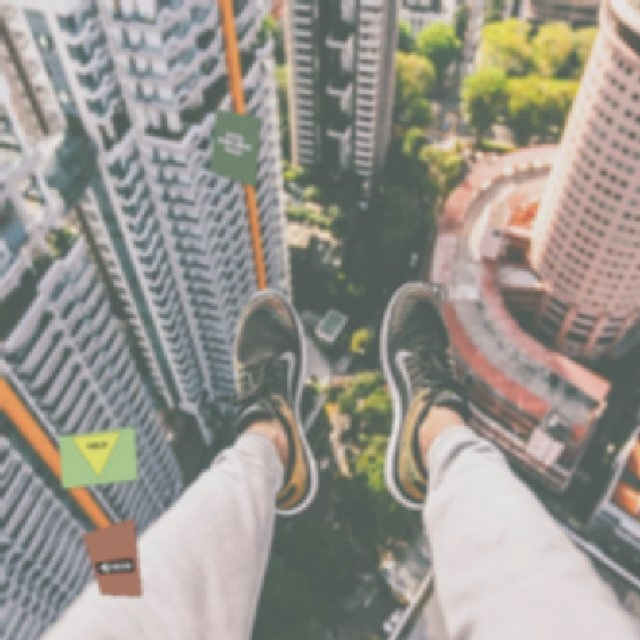DO_NOT_GO_AROUND: (214, 128, 254, 158)
ONE_WAY_ left: (94, 556, 134, 575)
YIELD: (69, 430, 123, 480)
